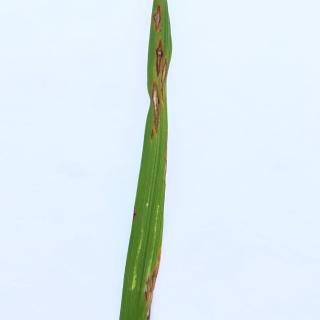Blast: (146, 83, 171, 131), (142, 264, 162, 299), (151, 39, 168, 79), (150, 2, 164, 32)
